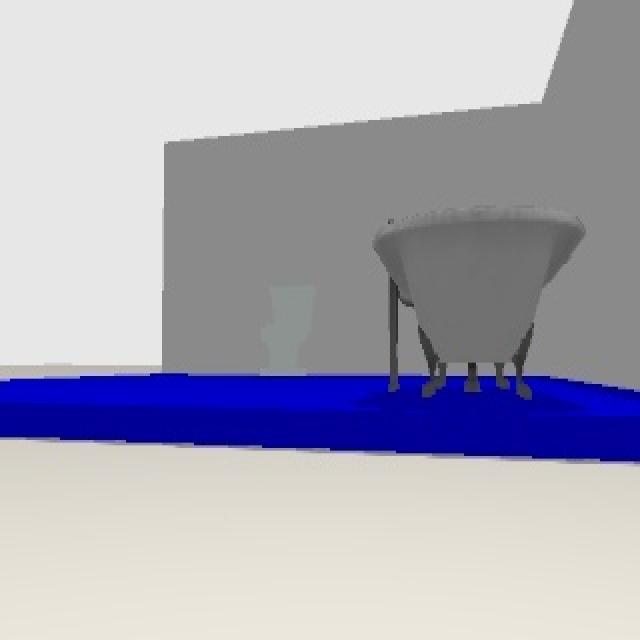bathtub: (369, 202, 592, 402)
